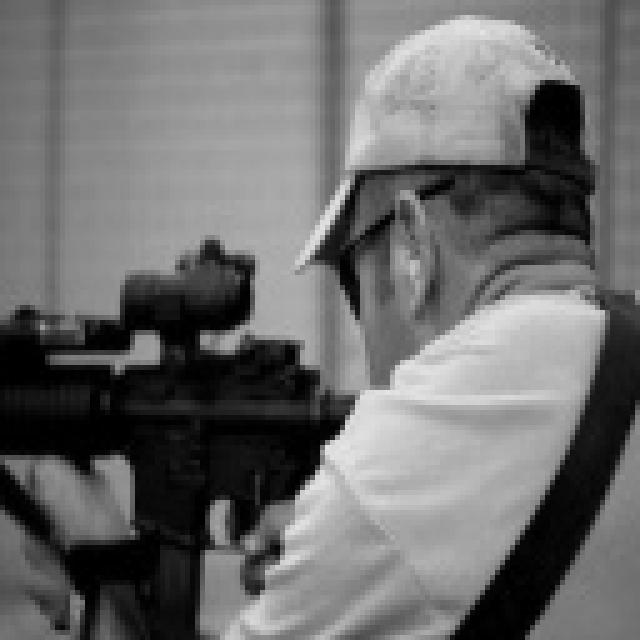Rifle: (0, 220, 384, 570)
